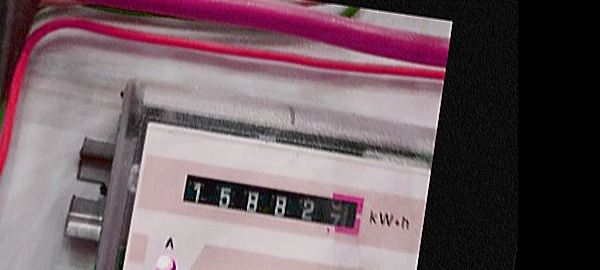1: (188, 178, 205, 201)
2: (297, 195, 317, 221)
5: (215, 182, 233, 208)
7: (327, 207, 341, 225)
8: (271, 192, 288, 217), (243, 188, 259, 212)
screen: (171, 161, 373, 244)
